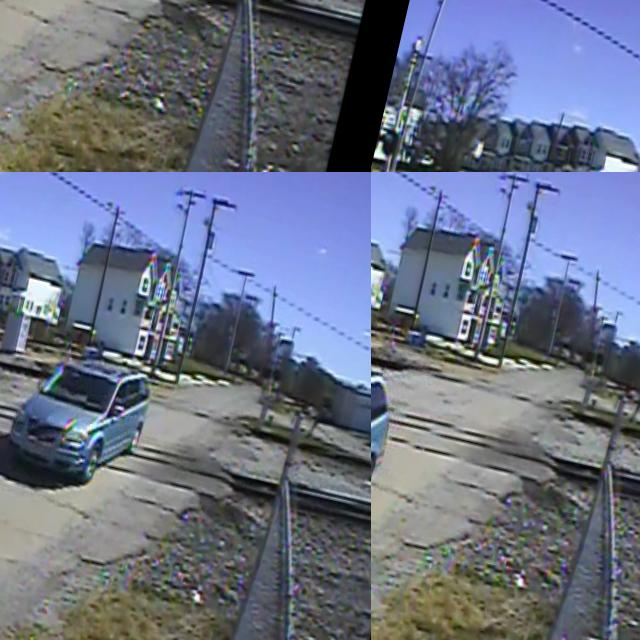barrier: (388, 0, 474, 134), (0, 172, 49, 258), (371, 172, 417, 255), (0, 0, 46, 78), (572, 264, 612, 344), (250, 284, 288, 363), (209, 0, 256, 43)
car: (371, 314, 523, 627), (0, 334, 158, 508), (124, 0, 182, 30)
rails: (0, 335, 371, 534), (0, 296, 371, 479), (371, 324, 640, 508), (371, 286, 640, 464), (0, 0, 365, 98), (0, 0, 371, 95)
traffic-signal: (371, 219, 405, 392), (0, 238, 33, 397), (244, 359, 282, 436), (0, 0, 35, 77), (568, 344, 606, 414), (371, 121, 413, 172), (203, 0, 255, 39)
